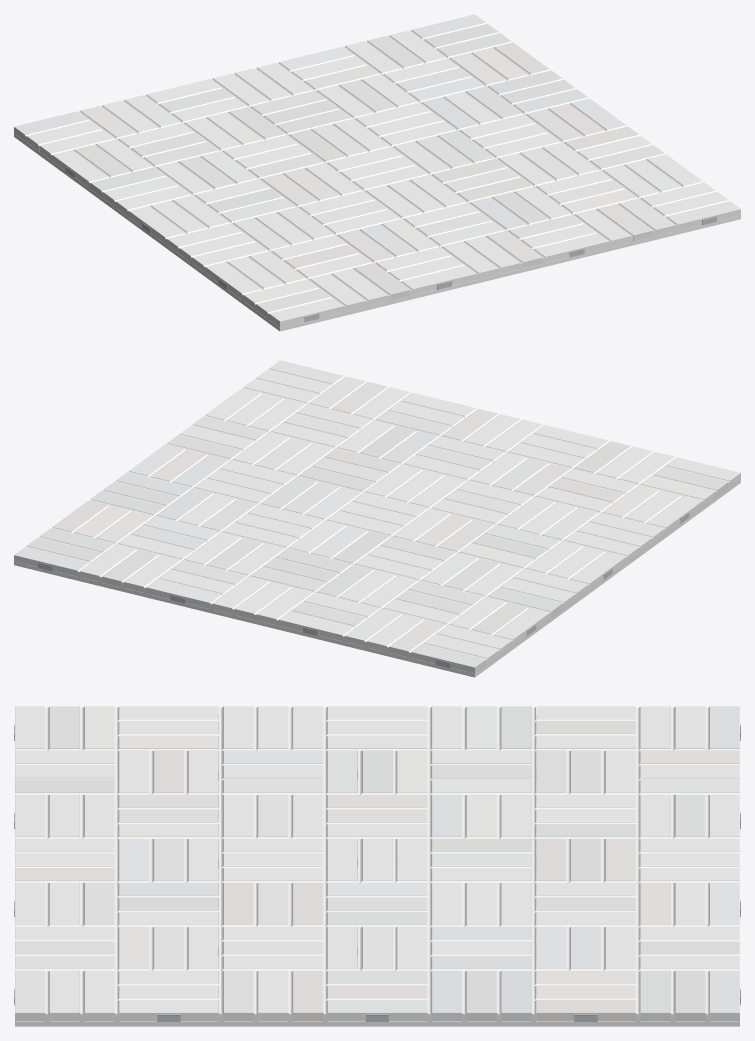
The model's file is board_6.glb.
3 renders of one model, top to bottom at view 1: azimuth 30°, elevation 25°; view 2: azimuth 150°, elevation 25°; view 3: azimuth 270°, elevation 25°, orthographic. The views are drawn at different scales.
Parts seen in each view (by area): view 1: B01, MORTAR, backing, CLIP_R50; view 2: B01, MORTAR, backing, CLIP_R50; view 3: B01, MORTAR, backing, CLIP_R50.
Boxes of the visible parts, x1=… form: B01: x1=14, y1=14, x2=740, y2=327; MORTAR: x1=25, y1=22, x2=728, y2=319; backing: x1=14, y1=133, x2=740, y2=331; CLIP_R50: x1=65, y1=166, x2=716, y2=321; B01: x1=14, y1=360, x2=740, y2=673; MORTAR: x1=26, y1=368, x2=729, y2=665; backing: x1=14, y1=479, x2=740, y2=677; CLIP_R50: x1=38, y1=512, x2=689, y2=667; B01: x1=15, y1=706, x2=739, y2=1020; MORTAR: x1=15, y1=707, x2=739, y2=1021; backing: x1=15, y1=715, x2=739, y2=1026; CLIP_R50: x1=14, y1=724, x2=740, y2=1021.
Bounding box in the file's own units: 1.57 × 0.033 × 1.57.
Materials: 5 (1 with a texture image).
